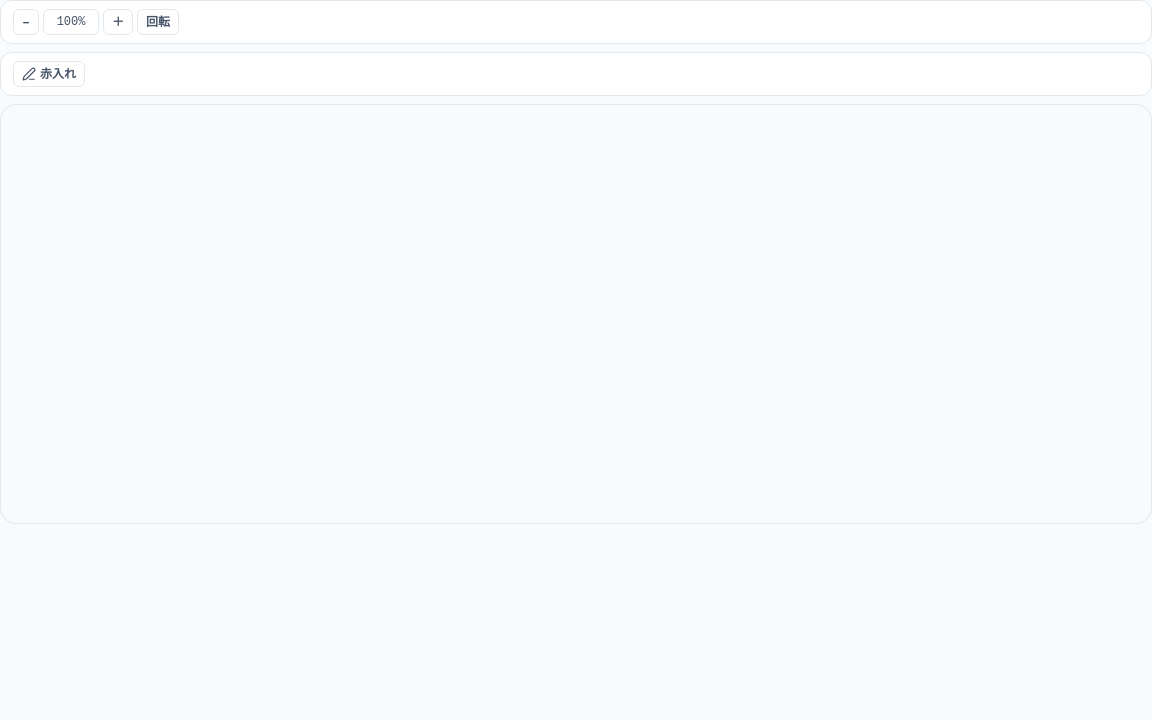
Test: PdfCanvasPreview › ズームボタンで拡大率が変わり、都度canvasへ再描画される
Click the button named "拡大": x=118, y=22 [103, 9, 133, 35]
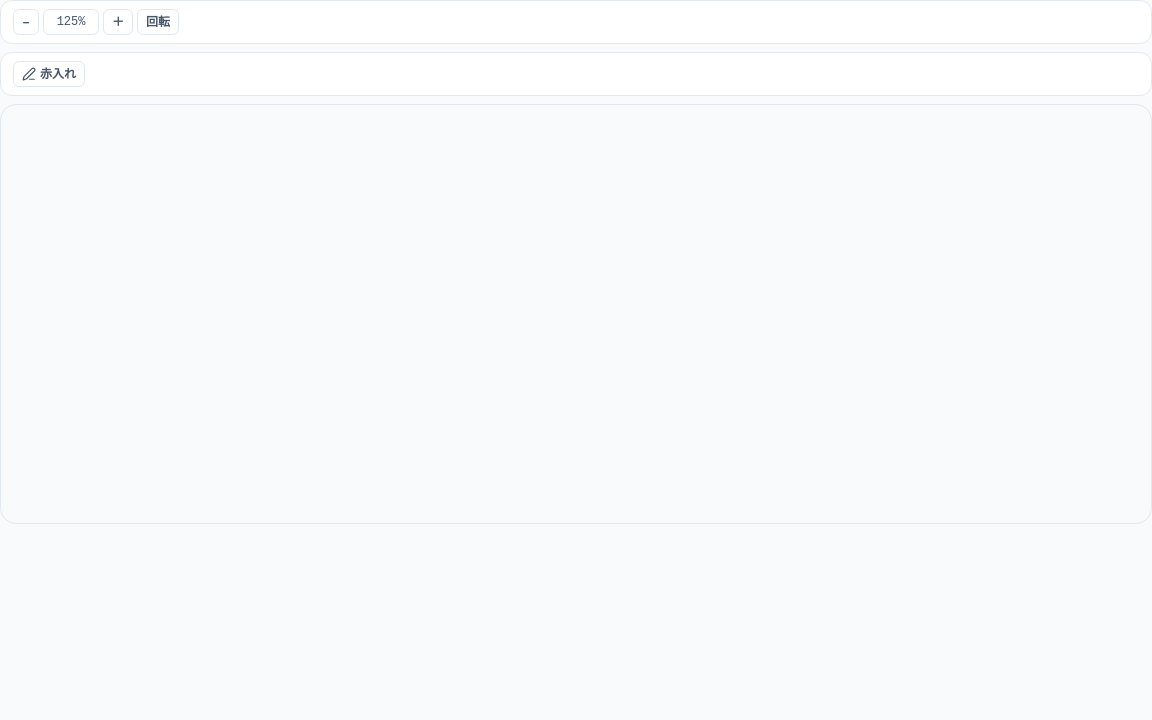
Check: the button "125%" is shown, box [43, 9, 99, 35]
